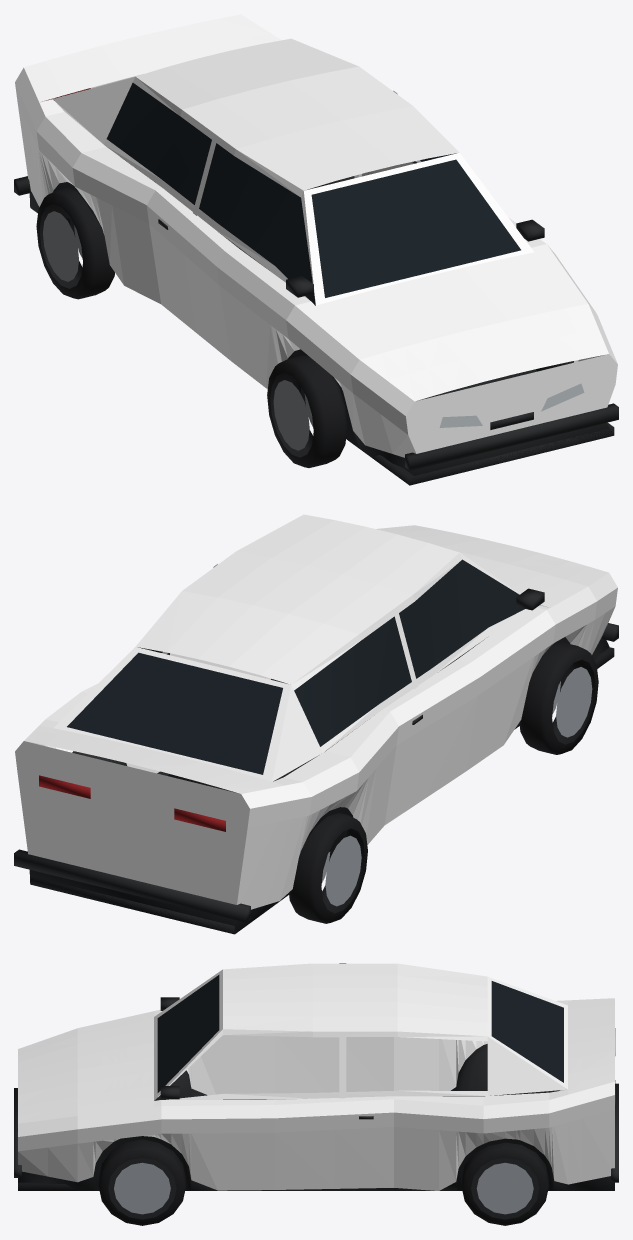
Rendered from norrvik_corisco.glb.
3 views of the same model, one above another, from view 1: azimuth 30°, elevation 25°; view 2: azimuth 150°, elevation 25°; view 3: azimuth 270°, elevation 25° (orthographic). The views are drawn at different scales.
Visible parts, largest first — view 1: Body_Paint, Body_Details, Mount_FrontLeft_Wheel_Details, Mount_RearLeft_Wheel_Details; view 2: Body_Paint, Body_Details, Mount_FrontLeft_Wheel_Details, Mount_RearLeft_Wheel_Details; view 3: Body_Paint, Body_Details, Mount_FrontRight_Wheel_Details, Mount_RearRight_Wheel_Details.
Part boxes in pixels (left/top/right/bottom): Body_Paint: left=15, top=14, right=617, bottom=457; Body_Details: left=14, top=82, right=618, bottom=485; Mount_FrontLeft_Wheel_Details: left=267, top=355, right=347, bottom=467; Mount_RearLeft_Wheel_Details: left=36, top=187, right=114, bottom=299; Body_Paint: left=15, top=514, right=617, bottom=909; Body_Details: left=14, top=559, right=618, bottom=934; Mount_FrontLeft_Wheel_Details: left=519, top=641, right=598, bottom=754; Mount_RearLeft_Wheel_Details: left=289, top=813, right=367, bottom=923; Body_Paint: left=18, top=963, right=614, bottom=1190; Body_Details: left=14, top=975, right=618, bottom=1190; Mount_FrontRight_Wheel_Details: left=98, top=1139, right=186, bottom=1225; Mount_RearRight_Wheel_Details: left=461, top=1142, right=548, bottom=1225.
Size of the model in its own units: 1.78 by 1.35 by 4.14.
2 materials, 1 textured.
